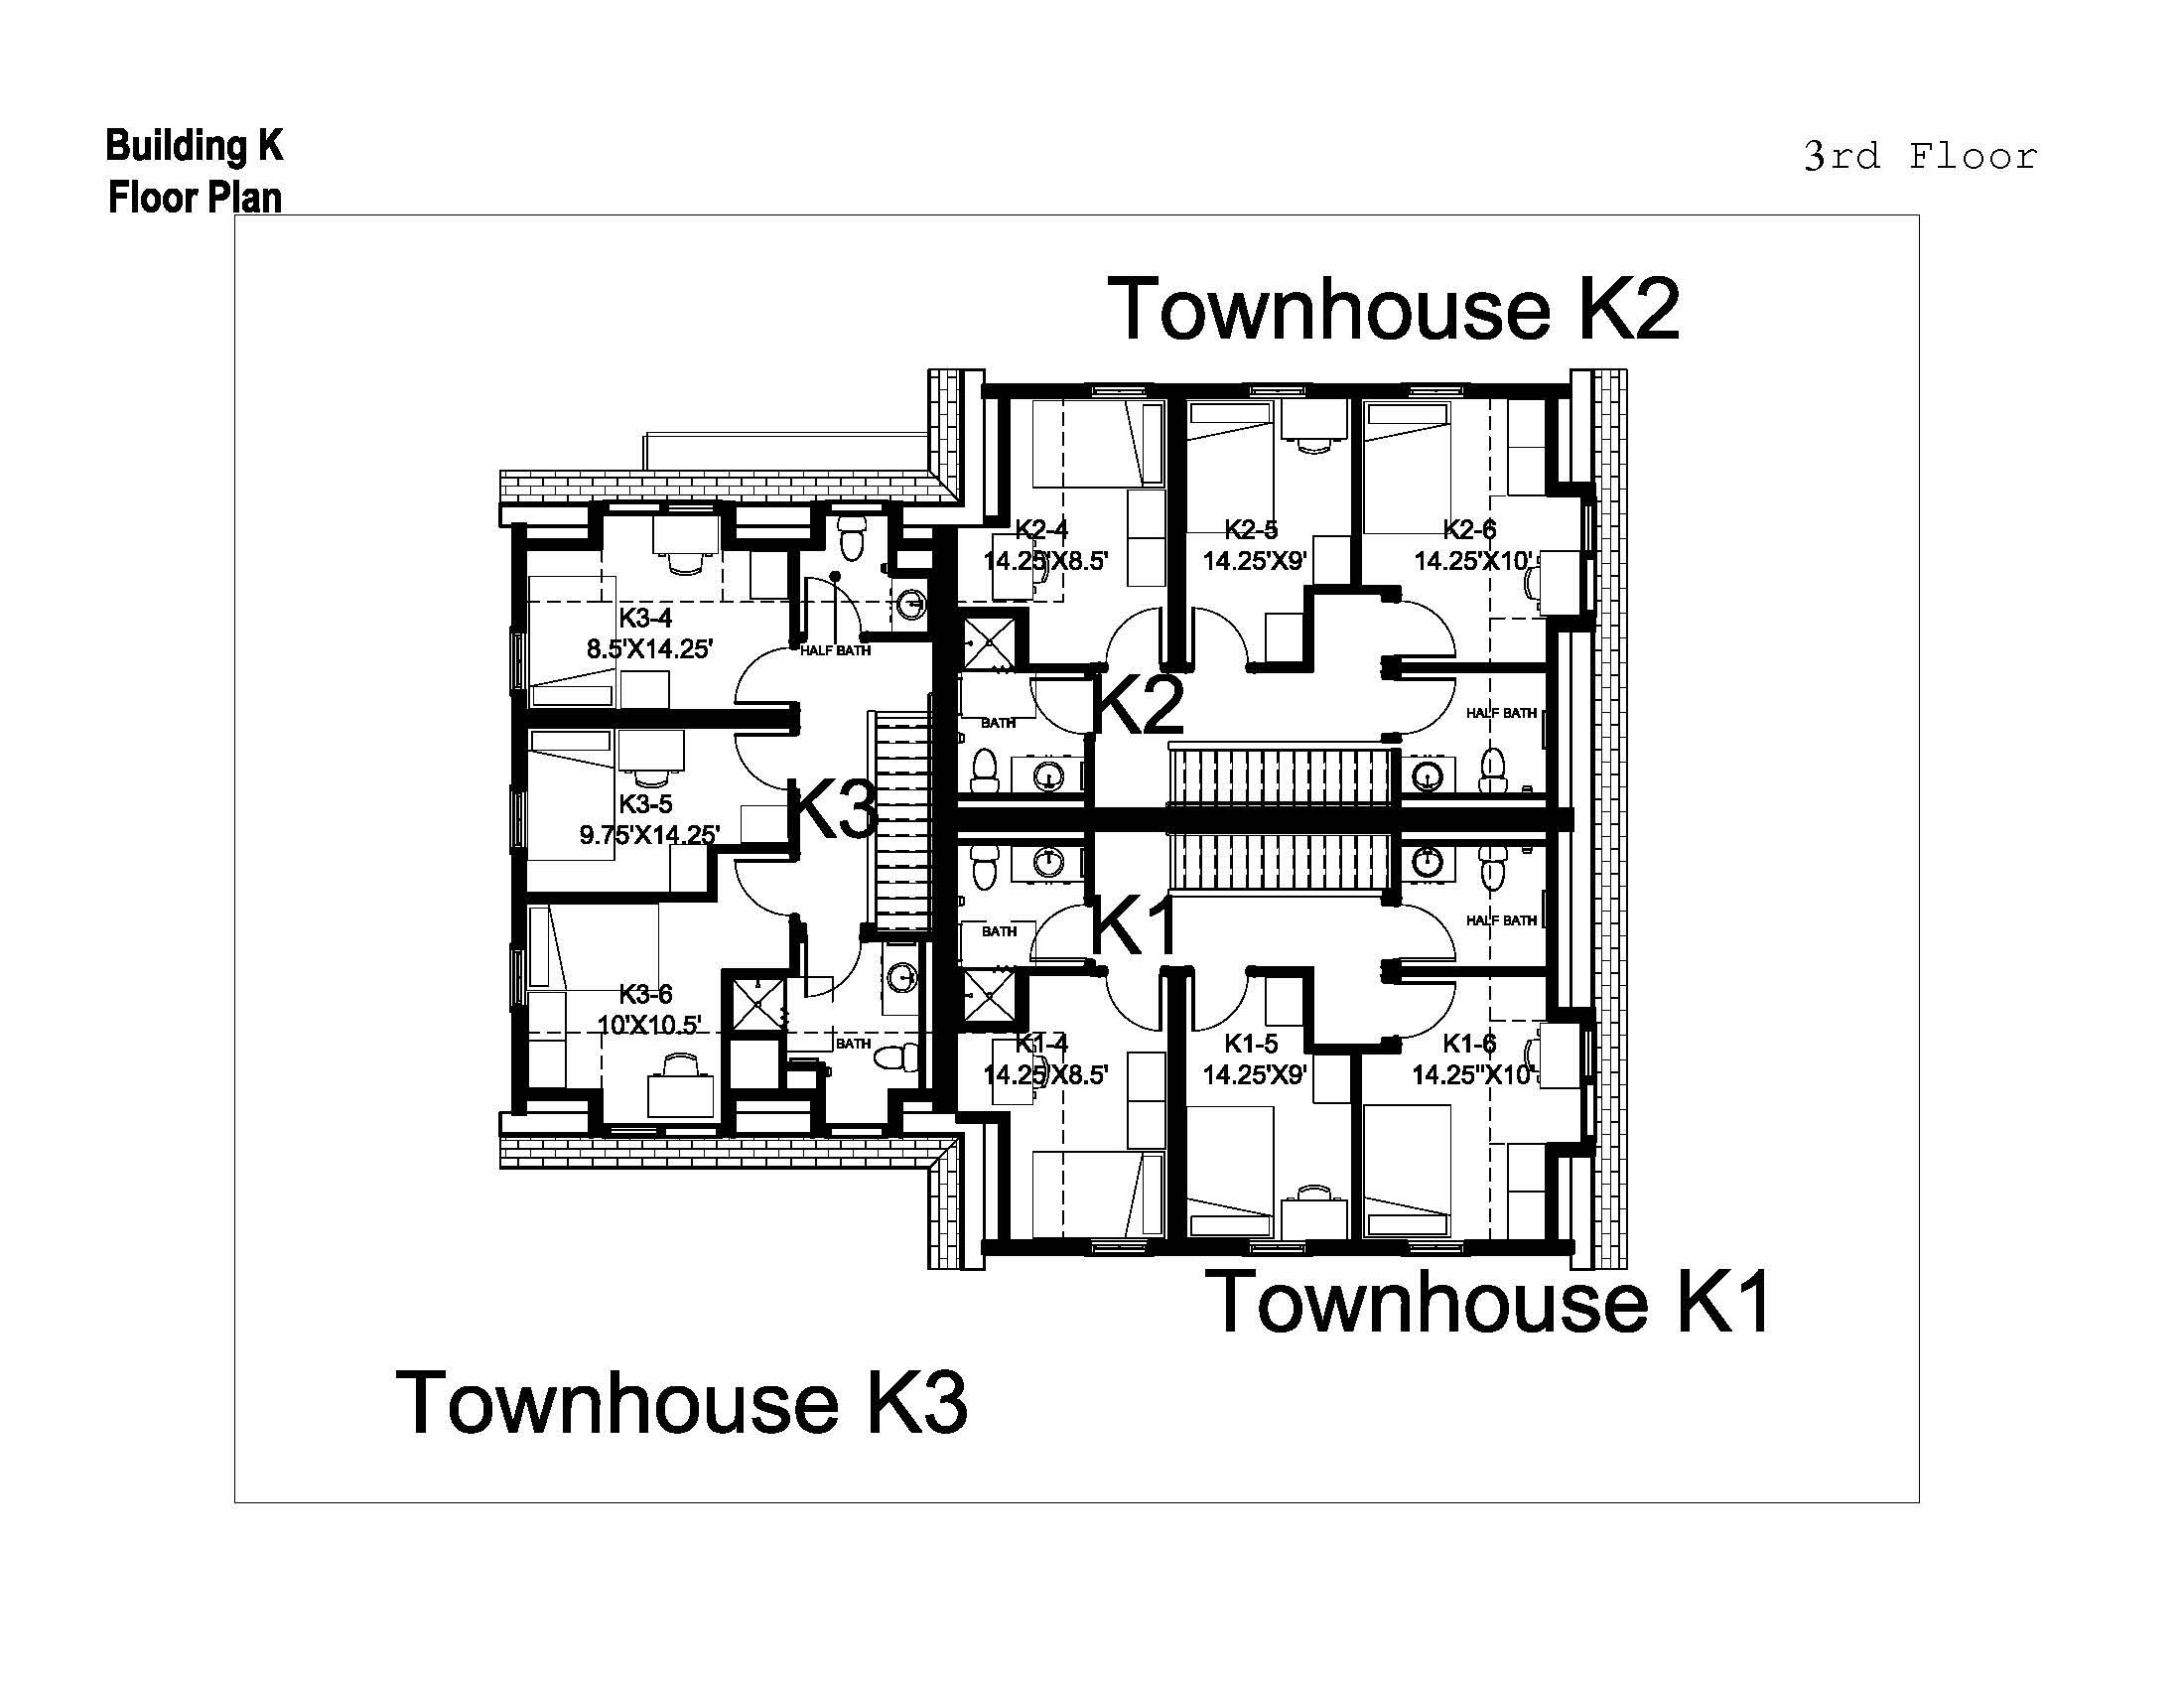door: (1404, 590, 1471, 660), (1188, 594, 1252, 663), (1397, 897, 1461, 965), (1400, 676, 1461, 738), (1397, 975, 1459, 1035), (1103, 977, 1165, 1035), (732, 645, 791, 707), (730, 856, 787, 918), (1103, 601, 1166, 656), (1026, 676, 1078, 741), (730, 732, 784, 794), (1189, 979, 1244, 1035)
